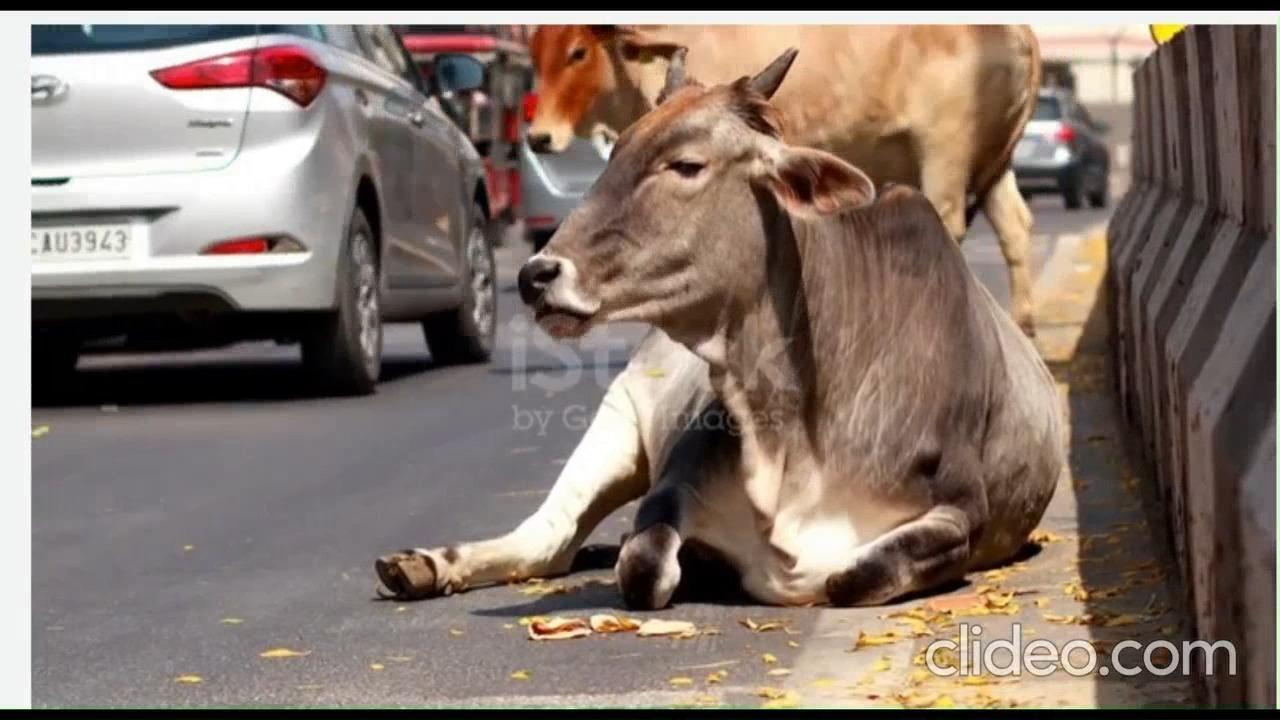Cow: (379, 47, 1065, 588), (527, 24, 1038, 338)
